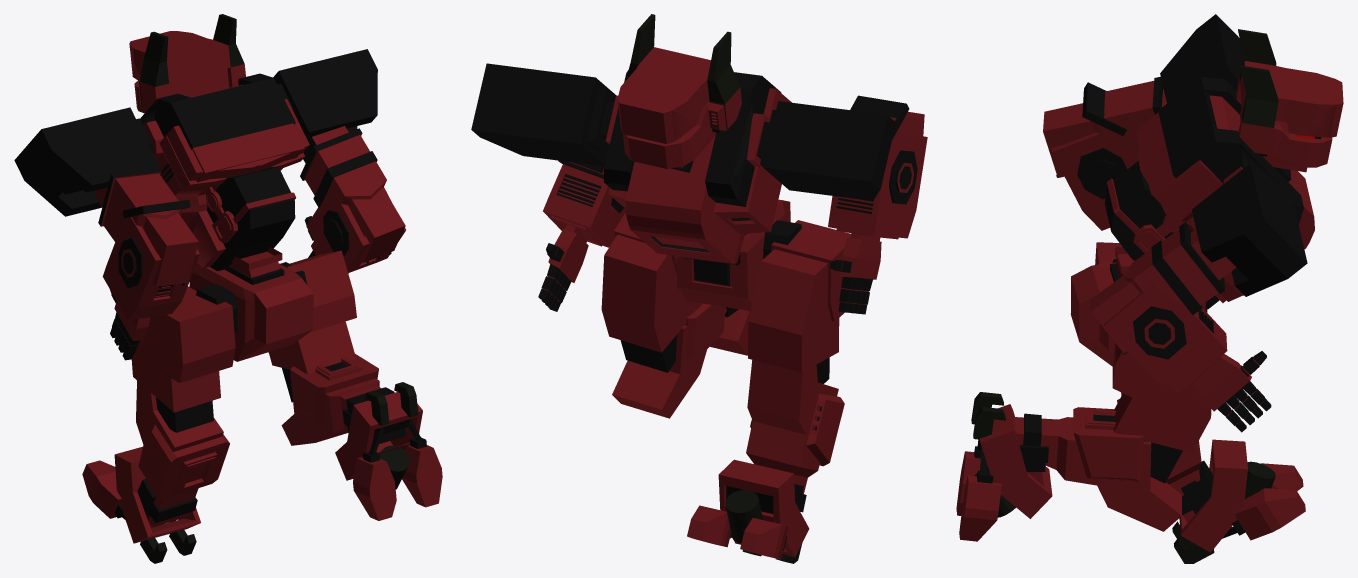
Rendered from walk1.obj.
The picture shows the model from 3 angles, left to right: view 1: azimuth 30°, elevation 25°; view 2: azimuth 150°, elevation 25°; view 3: azimuth 270°, elevation 25°; orthographic projection. The views are drawn at different scales.
Parts seen in each view (by area): view 1: R_UpperShoulder_Cube.030; view 2: R_UpperShoulder_Cube.030; view 3: R_UpperShoulder_Cube.030.
Boxes of the visible parts, bbox=[...] form: R_UpperShoulder_Cube.030: bbox=[14, 14, 442, 563]; R_UpperShoulder_Cube.030: bbox=[471, 14, 927, 563]; R_UpperShoulder_Cube.030: bbox=[956, 14, 1343, 563].
Size of the model in its own units: 1.43 by 1.92 by 1.26.
